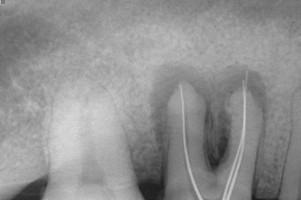Dental Caries: (150, 62, 268, 171)
